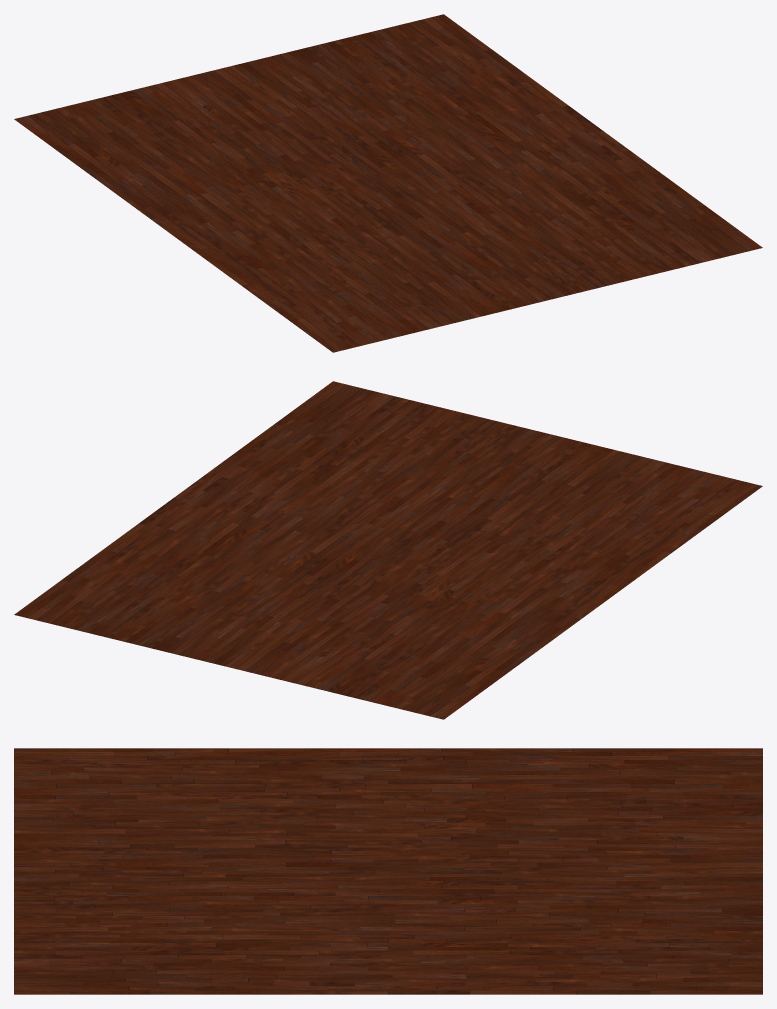
The model's file is arkade-walnut-floor.glb.
3 renders of one model, top to bottom at view 1: azimuth 30°, elevation 25°; view 2: azimuth 150°, elevation 25°; view 3: azimuth 270°, elevation 25°, orthographic. The views are drawn at different scales.
Parts seen in each view (by area): view 1: Arkade Bar | walnut floor; view 2: Arkade Bar | walnut floor; view 3: Arkade Bar | walnut floor.
Part boxes in pixels (<box>): Arkade Bar | walnut floor: <box>14,14,762,352</box>; Arkade Bar | walnut floor: <box>14,381,762,719</box>; Arkade Bar | walnut floor: <box>14,748,762,994</box>.
Bounding box in the file's own units: 14 × 0.004 × 18.
1 material, 1 textured.
